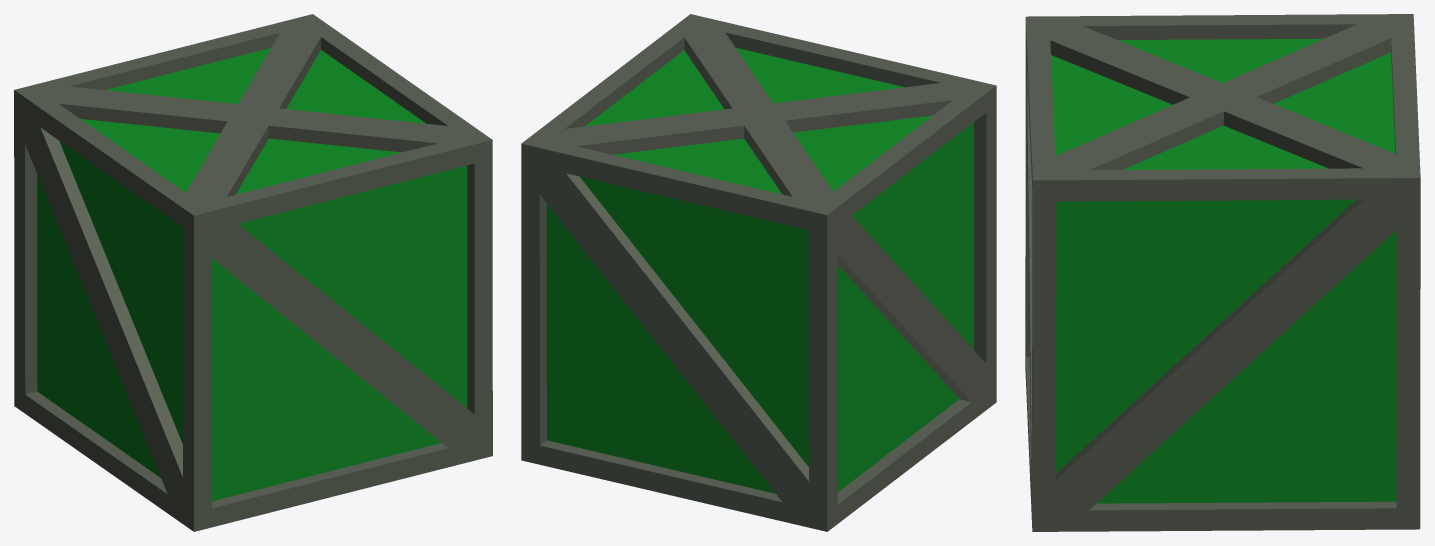
Rendered from Crate.fbx.
3 views of the same model, side by side, from view 1: azimuth 30°, elevation 25°; view 2: azimuth 150°, elevation 25°; view 3: azimuth 270°, elevation 25° (orthographic). The views are drawn at different scales.
Parts seen in each view (by area): view 1: Crate; view 2: Crate; view 3: Crate.
Boxes of the visible parts, x1,y1,x2,y2 form: Crate: [14, 14, 492, 531]; Crate: [521, 14, 996, 531]; Crate: [1025, 14, 1420, 531].
Size of the model in its own units: 0.8591 by 0.845 by 0.86.
